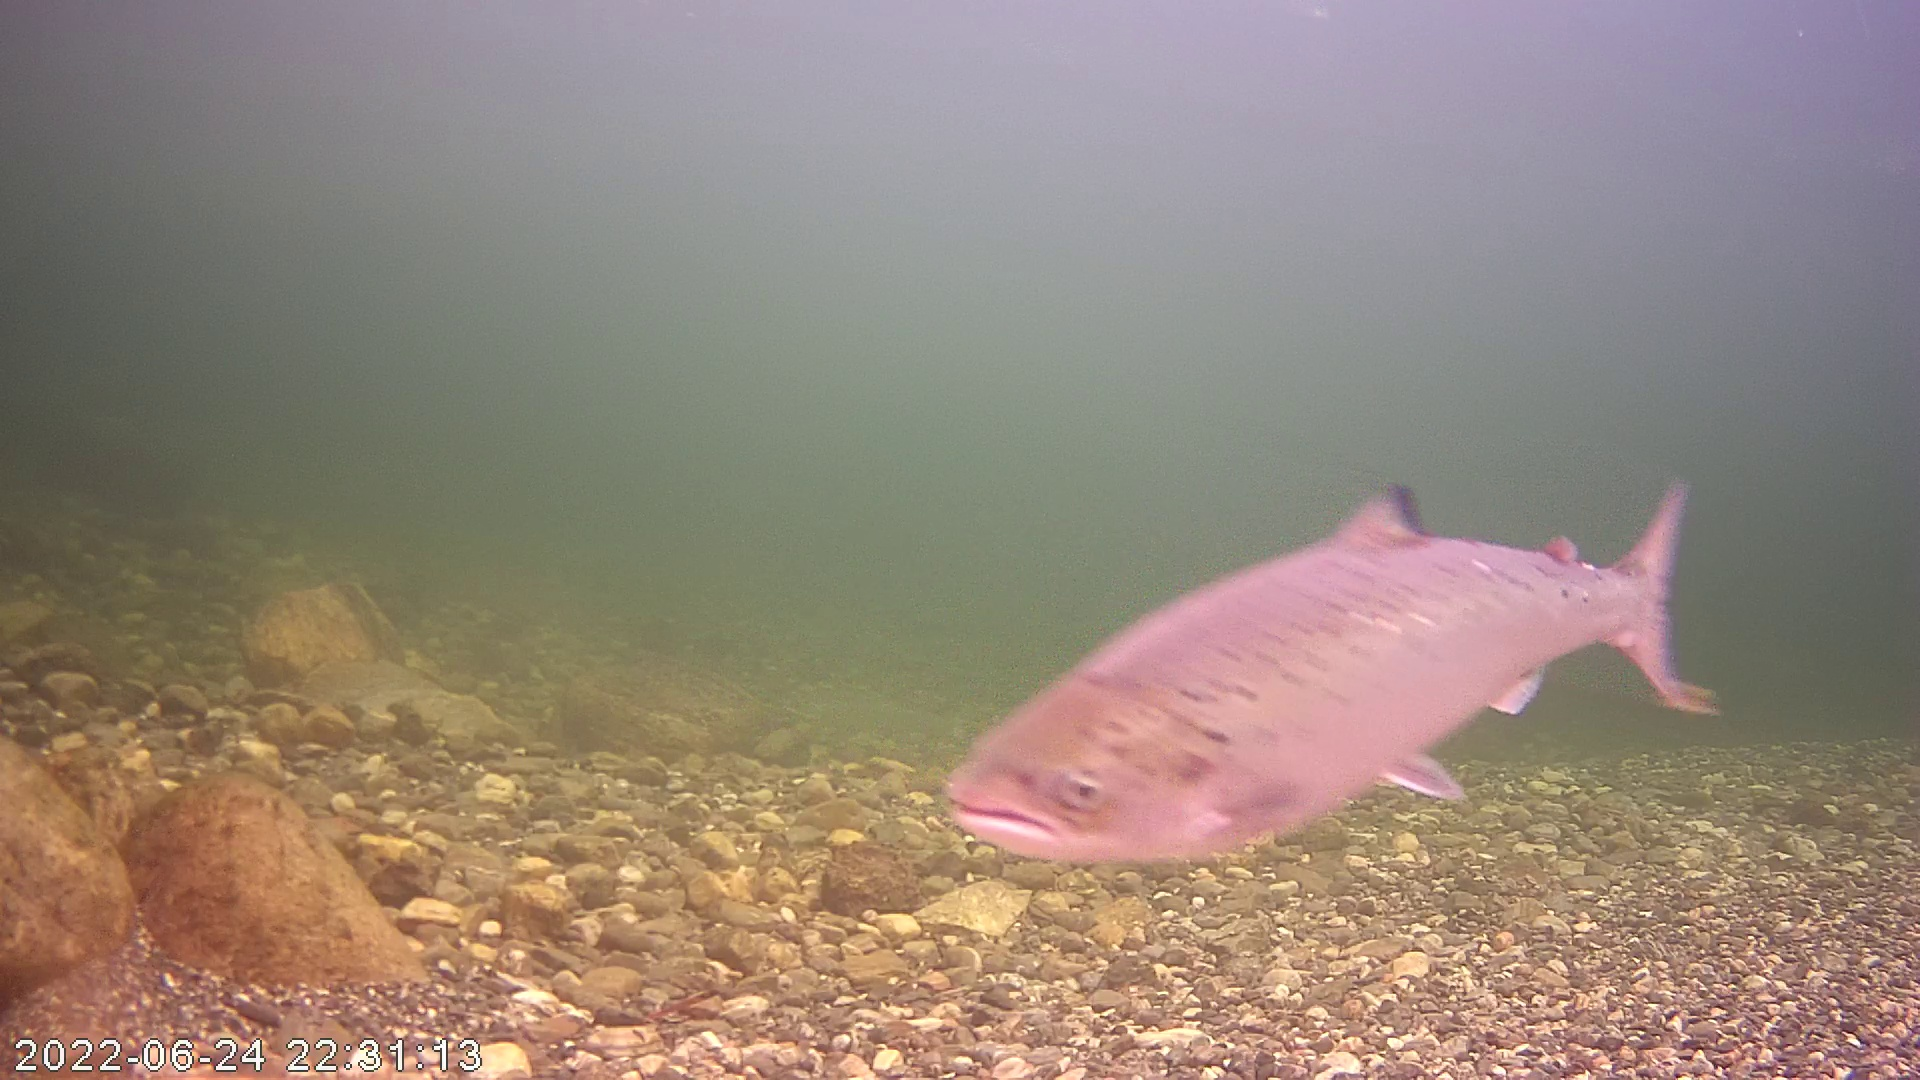salmon: (939, 483, 1685, 873)
